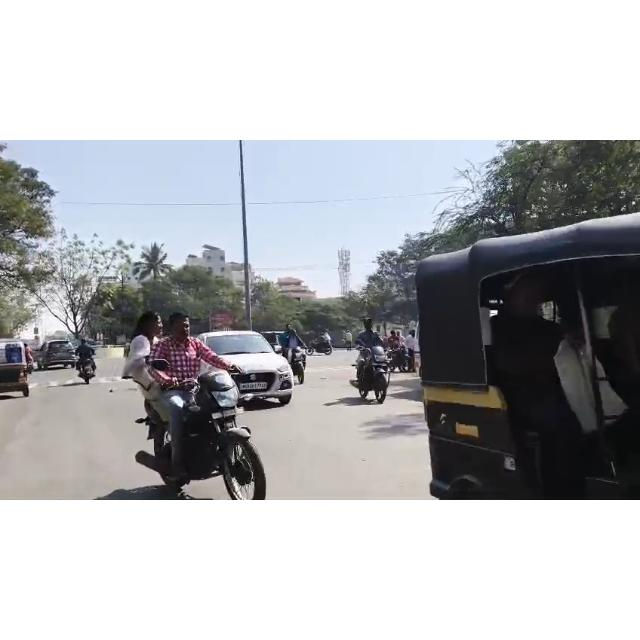auto: (413, 207, 639, 498), (0, 330, 36, 399)
car: (195, 329, 298, 413), (37, 336, 82, 372)
